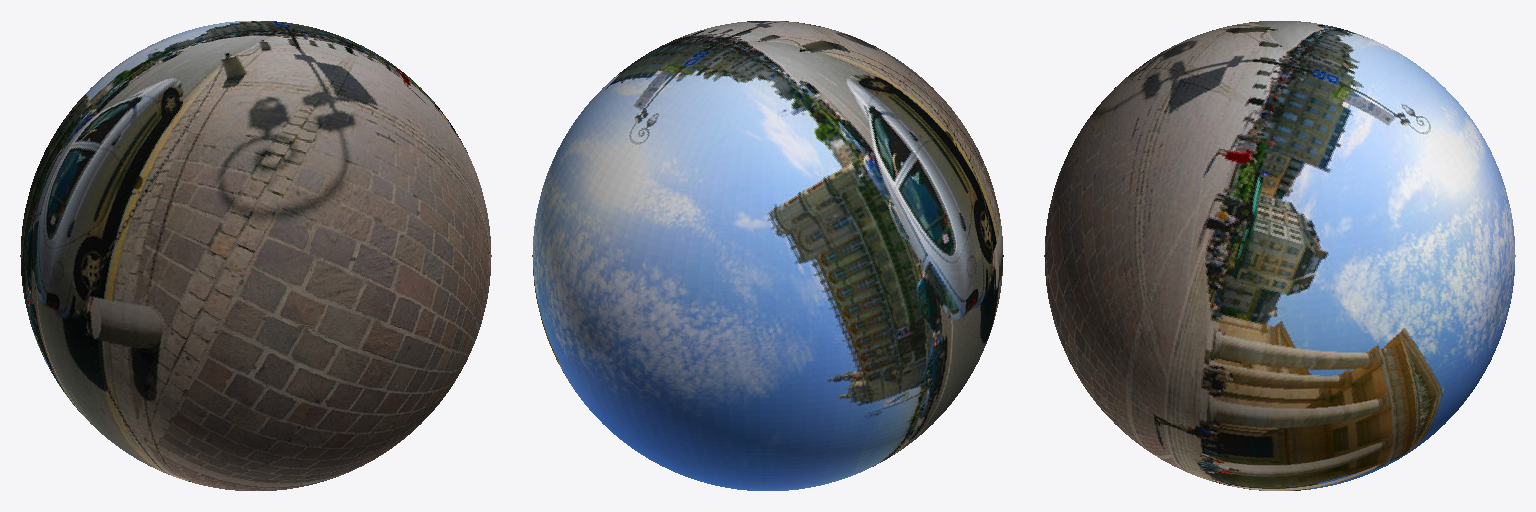
3 renders of one model, left to right at view 1: azimuth 30°, elevation 25°; view 2: azimuth 150°, elevation 25°; view 3: azimuth 270°, elevation 25°, orthographic.
Parts seen in each view (by area): view 1: Sphere_Sphere.001; view 2: Sphere_Sphere.001; view 3: Sphere_Sphere.001.
Boxes of the visible parts, box(x1,y1,x2,y2) form: Sphere_Sphere.001: box(20, 21, 491, 490); Sphere_Sphere.001: box(532, 21, 1003, 490); Sphere_Sphere.001: box(1044, 21, 1515, 490).
Size of the model in its own units: 2.96 by 2.96 by 2.96.
1 materials, 1 textured.